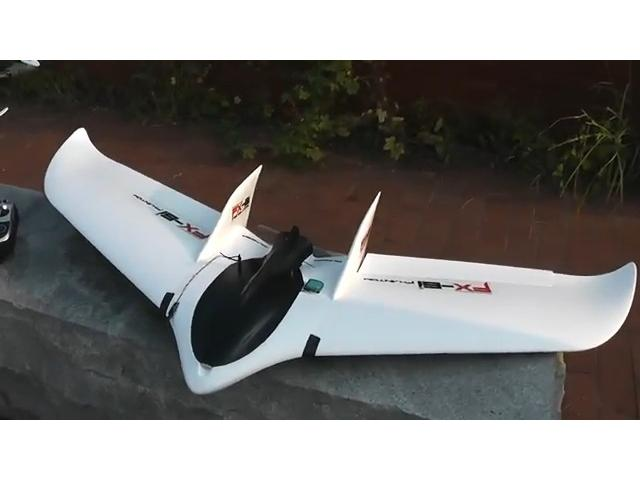Anti-Drone: (20, 121, 640, 402)
